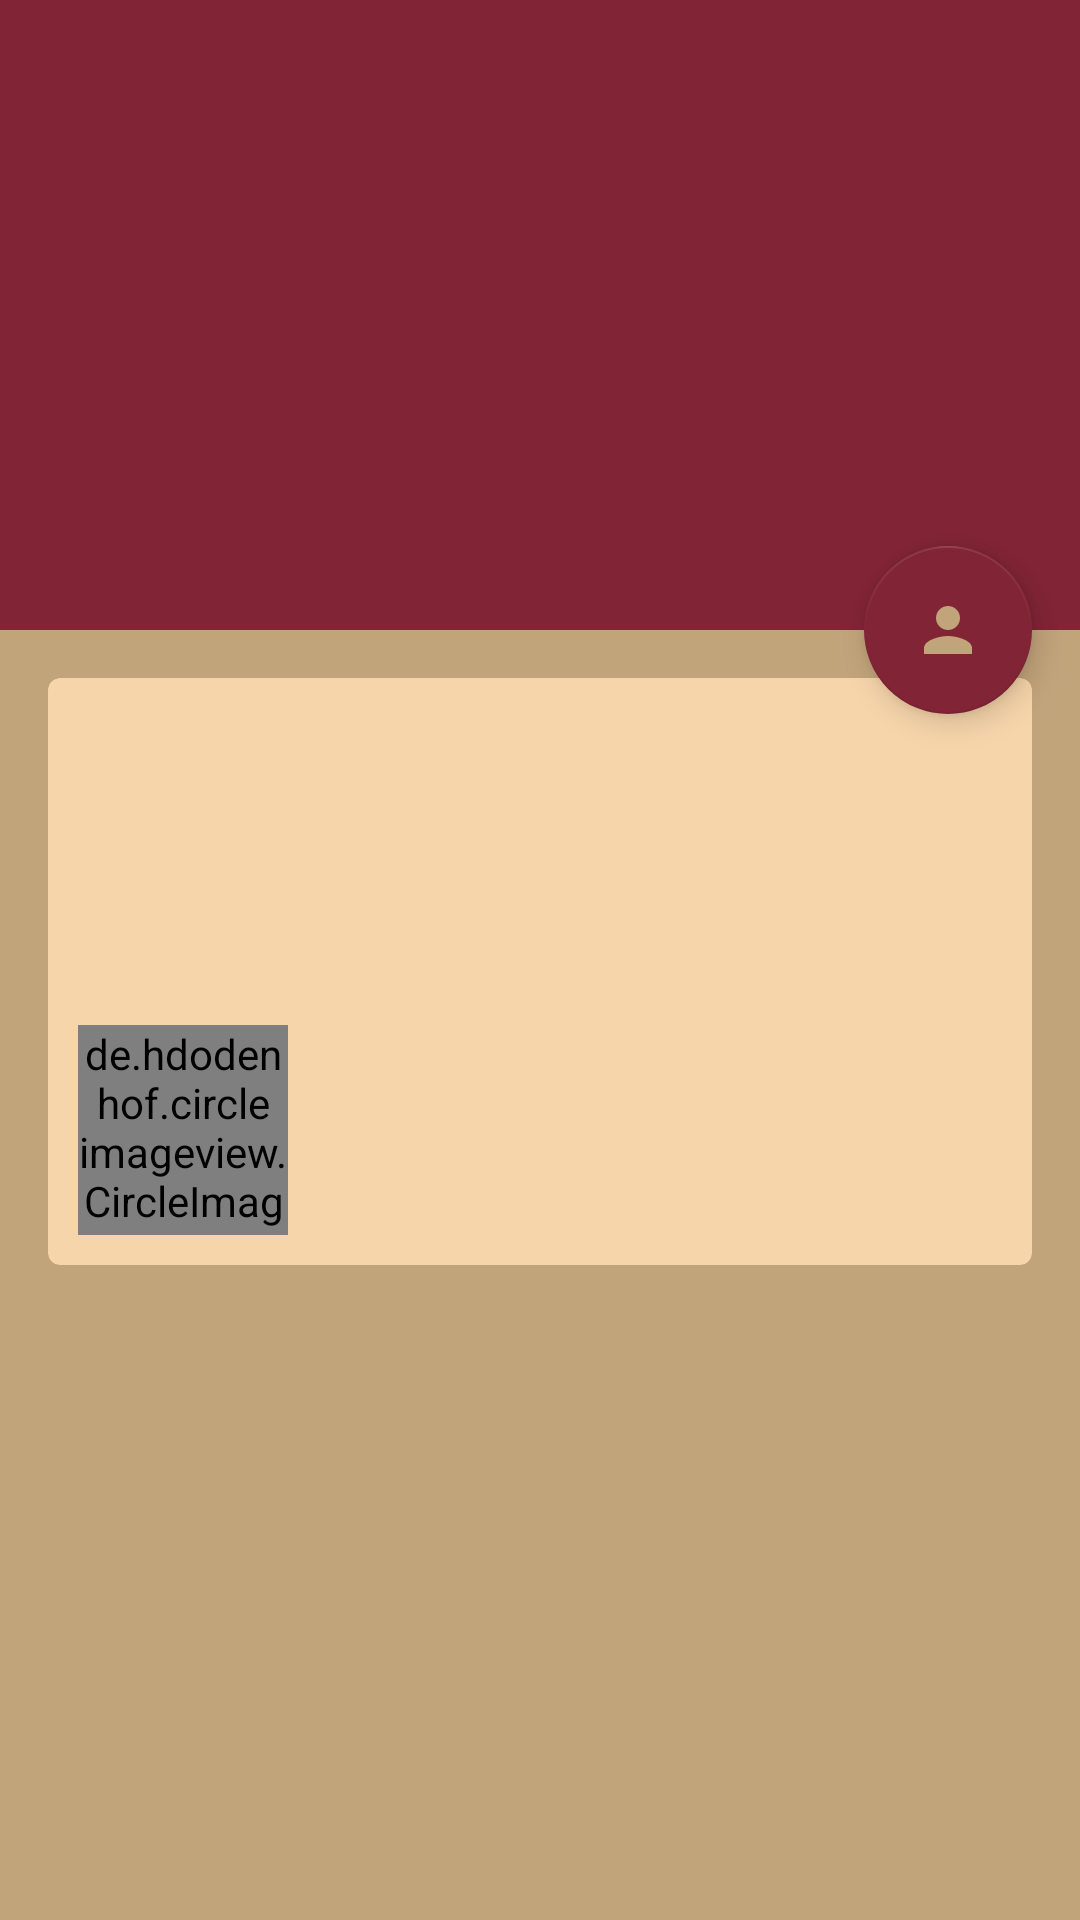

Where to tap for icons on this 1080px×1920px app screen, as (x=x, y=y):
person: (x=948, y=630)
